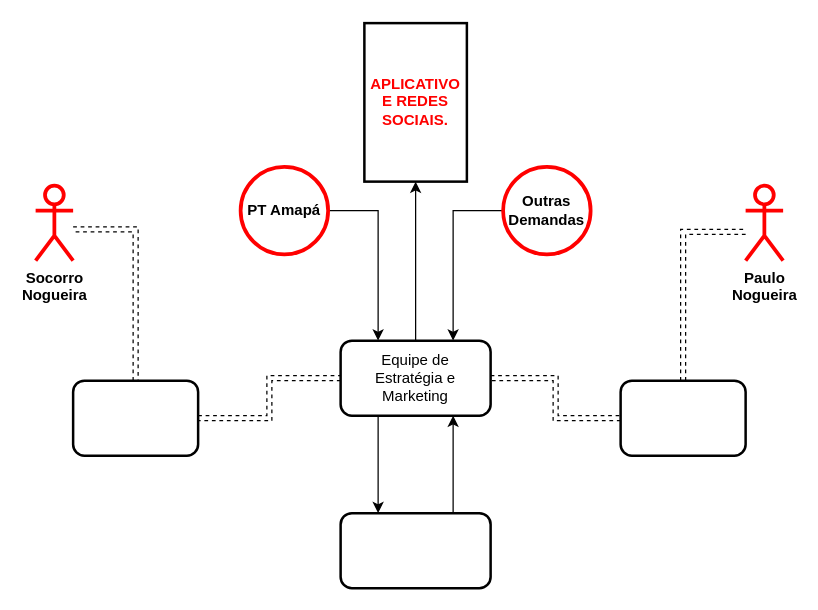
The diagram is 818 pixels wide and 610 high, and some of its shapes have lost their labels. The shapes that lost their labels are listed below. From the top down, each one's box as (x1, y1, x2, y2) in pixels, then its label:
(71, 379, 199, 456): Equipe Socorro ( Demandas )
(619, 379, 746, 456): Equipe Paulo ( Demandas )
(339, 511, 491, 589): Equipe de mídias.
